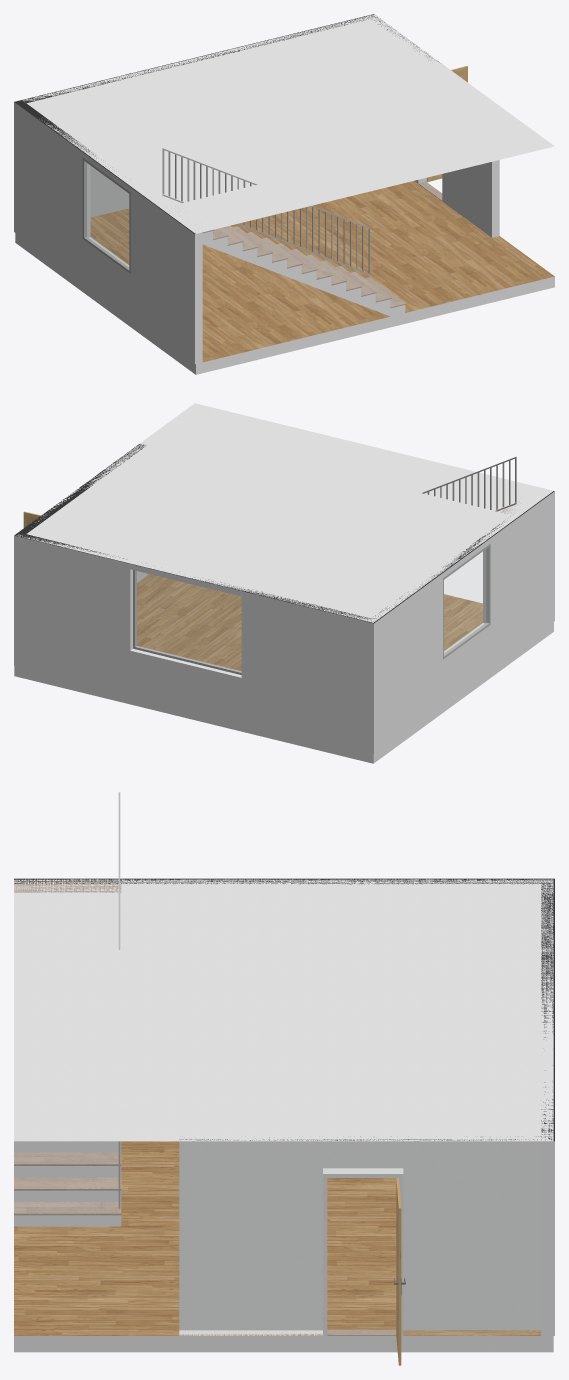
The model's file is archilogic_2017-06-09_12-21-25_1SuC2t.obj.
3 views of the same model, one above another, from view 1: azimuth 30°, elevation 25°; view 2: azimuth 150°, elevation 25°; view 3: azimuth 270°, elevation 25° (orthographic). The views are drawn at different scales.
Parts seen in each view (by area): view 1: 2, 1, 6, 12, 13, 4, 7, 3, 5; view 2: 2, 6, 1, 4, 5, 7, 13; view 3: 2, 1, 12, 4, 9, 11.
Part boxes in pixels (x1,y1,x2,y2): 2: (14, 14, 554, 374); 1: (90, 181, 554, 362); 6: (84, 161, 128, 269); 12: (175, 182, 442, 308); 13: (162, 148, 370, 274); 4: (14, 14, 439, 233); 7: (87, 163, 202, 364); 3: (90, 166, 129, 217); 5: (82, 158, 130, 273); 2: (14, 403, 554, 763); 6: (137, 547, 489, 670); 1: (137, 573, 482, 671); 4: (14, 444, 554, 623); 5: (133, 544, 490, 674); 7: (366, 549, 486, 753); 13: (422, 456, 516, 511); 2: (14, 879, 554, 1352); 1: (14, 1141, 541, 1335); 12: (14, 881, 396, 1335); 4: (14, 878, 554, 1141); 9: (323, 1174, 403, 1335); 11: (396, 1178, 401, 1365).
Bounding box in the file's own units: 7.76 × 3.69 × 6.05.
12 materials, 6 textured.
